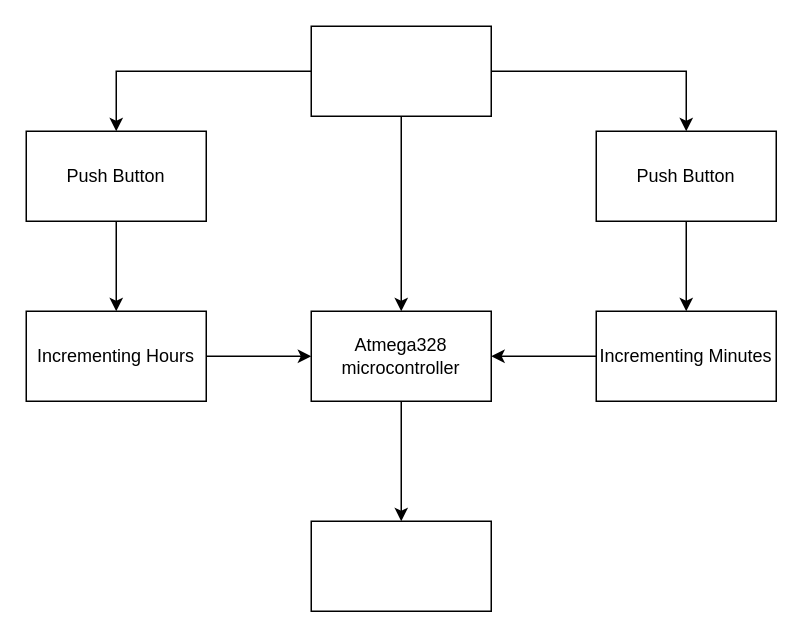
Some shapes in this 803 by 638 pixel diagram are drawn without their labels. Here are the shapes that lost their labels. From the top down, the centre of each, then its label:
At point (400, 70): "Voltage source".
At point (400, 565): "4 7Segment display".
